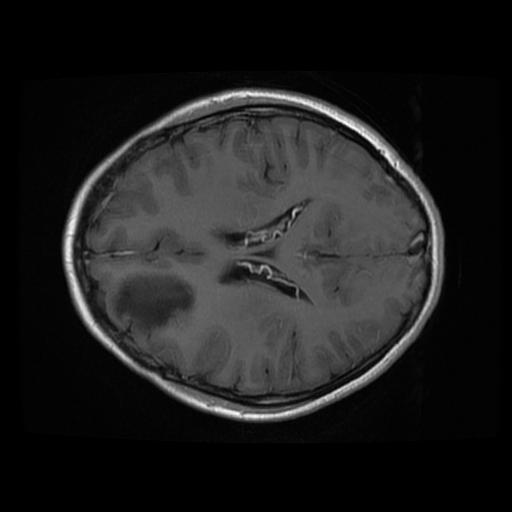glioma: (108, 269, 198, 335)
